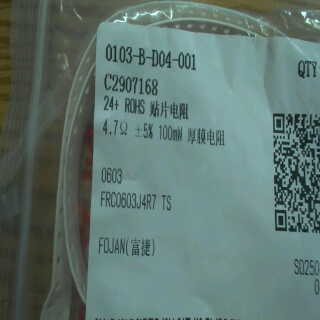4.7R: (99, 117, 133, 140)
